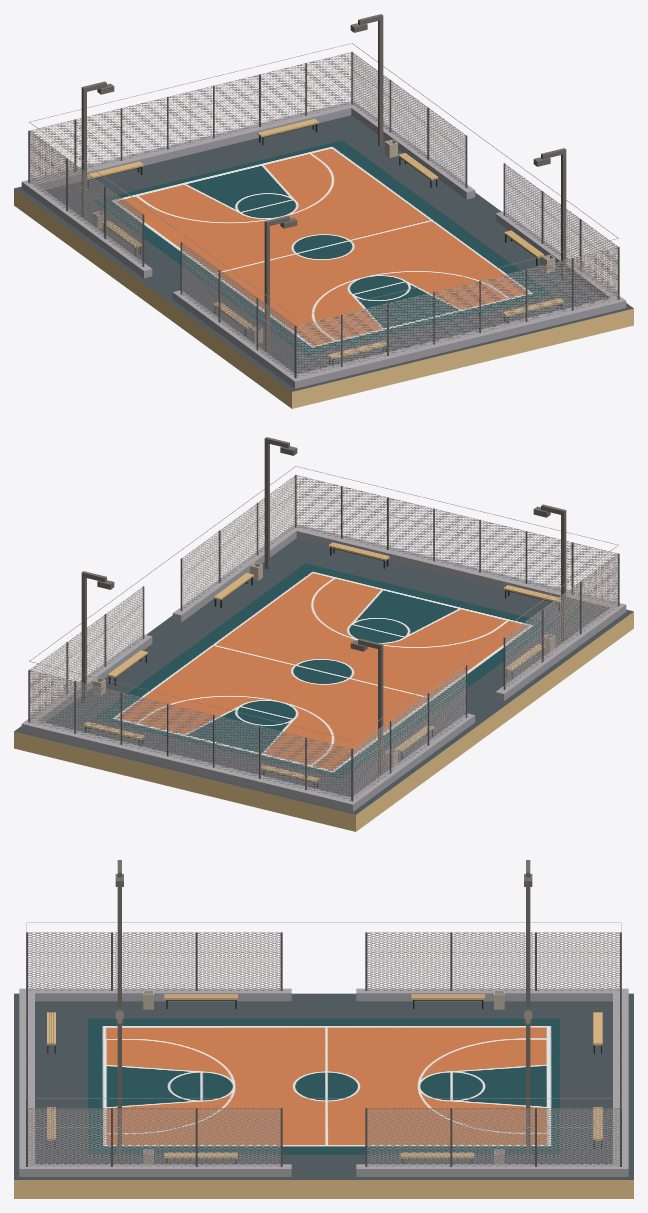
The model's file is Basketball_Court.fbx.
3 renders of one model, top to bottom at view 1: azimuth 30°, elevation 25°; view 2: azimuth 150°, elevation 25°; view 3: azimuth 270°, elevation 25°, orthographic. The views are drawn at different scales.
Visible parts, largest first — view 1: Base, Court, Light Pillars, Benches, Mesh_Bars, Dust_Bin; view 2: Base, Court, Light Pillars, Benches, Mesh_Bars, Dust_Bin; view 3: Base, Court, Benches, Light Pillars, Mesh_Bars, Dust_Bin.
Boxes of the visible parts, left/top/right/bottom form: Base: left=14, top=51, right=633, bottom=408; Court: left=95, top=140, right=553, bottom=355; Light Pillars: left=81, top=14, right=566, bottom=352; Benches: left=87, top=119, right=563, bottom=365; Mesh_Bars: left=29, top=43, right=618, bottom=343; Dust_Bin: left=92, top=139, right=555, bottom=343; Base: left=14, top=474, right=633, bottom=831; Court: left=94, top=563, right=552, bottom=778; Light Pillars: left=81, top=437, right=566, bottom=775; Benches: left=83, top=542, right=560, bottom=788; Mesh_Bars: left=29, top=466, right=618, bottom=766; Dust_Bin: left=92, top=562, right=555, bottom=766; Base: left=14, top=932, right=633, bottom=1198; Court: left=88, top=1018, right=559, bottom=1154; Benches: left=47, top=994, right=602, bottom=1163; Light Pillars: left=115, top=860, right=532, bottom=1164; Mesh_Bars: left=26, top=922, right=621, bottom=1127; Dust_Bin: left=143, top=990, right=504, bottom=1164.
Size of the model in its own units: 2802 by 1153 by 3946.
10 materials, 1 textured.
